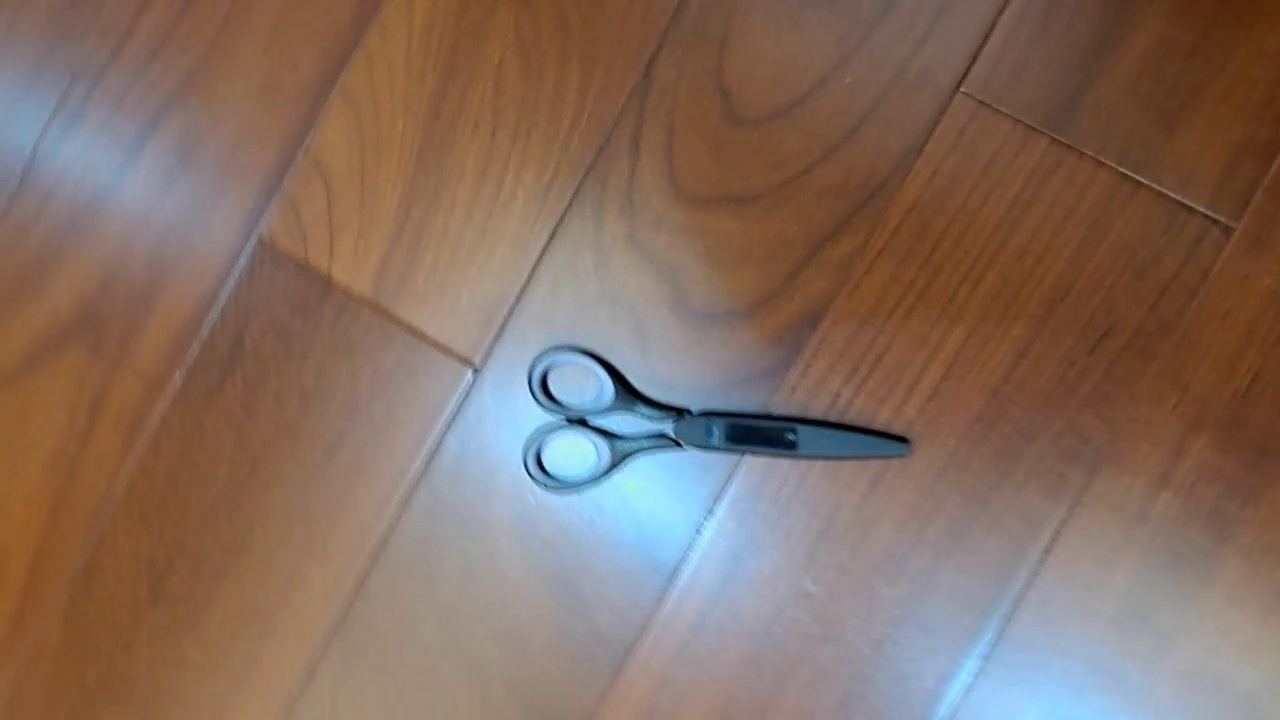scissors: (521, 344, 914, 497)
